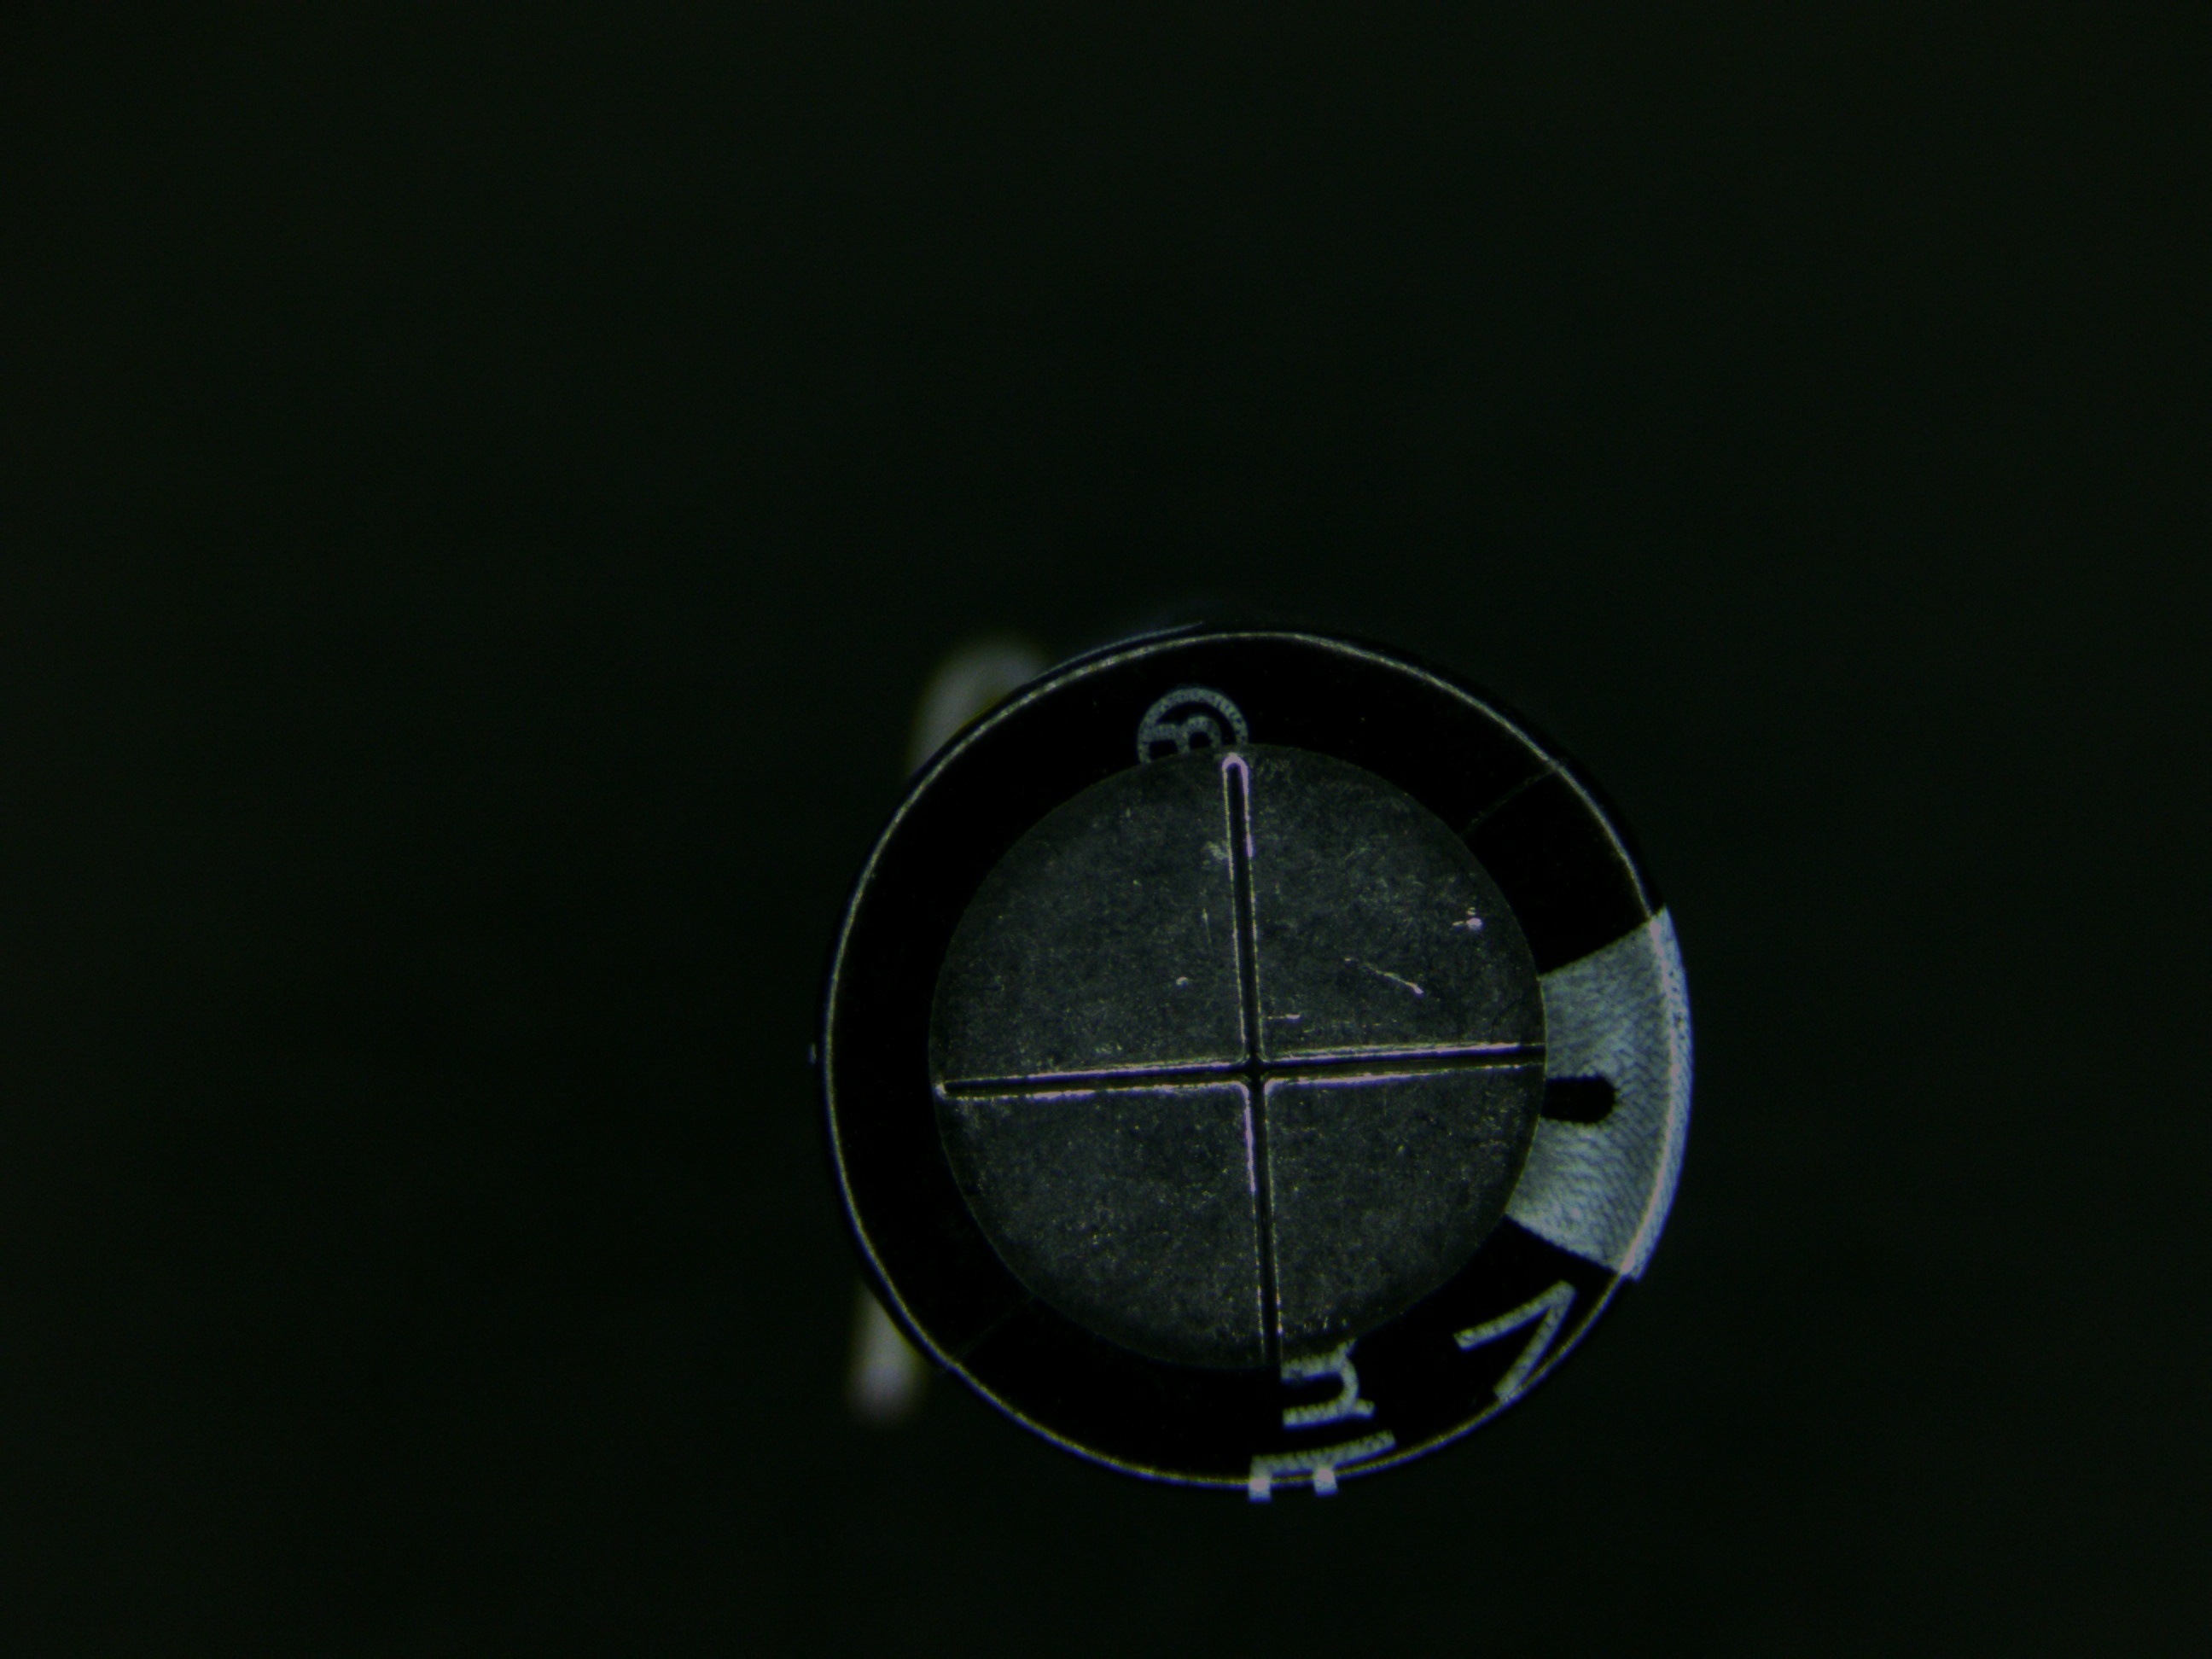c3: (819, 620, 1700, 1523)
